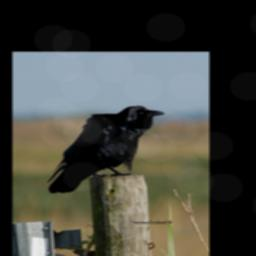Crow: (46, 105, 165, 195)
